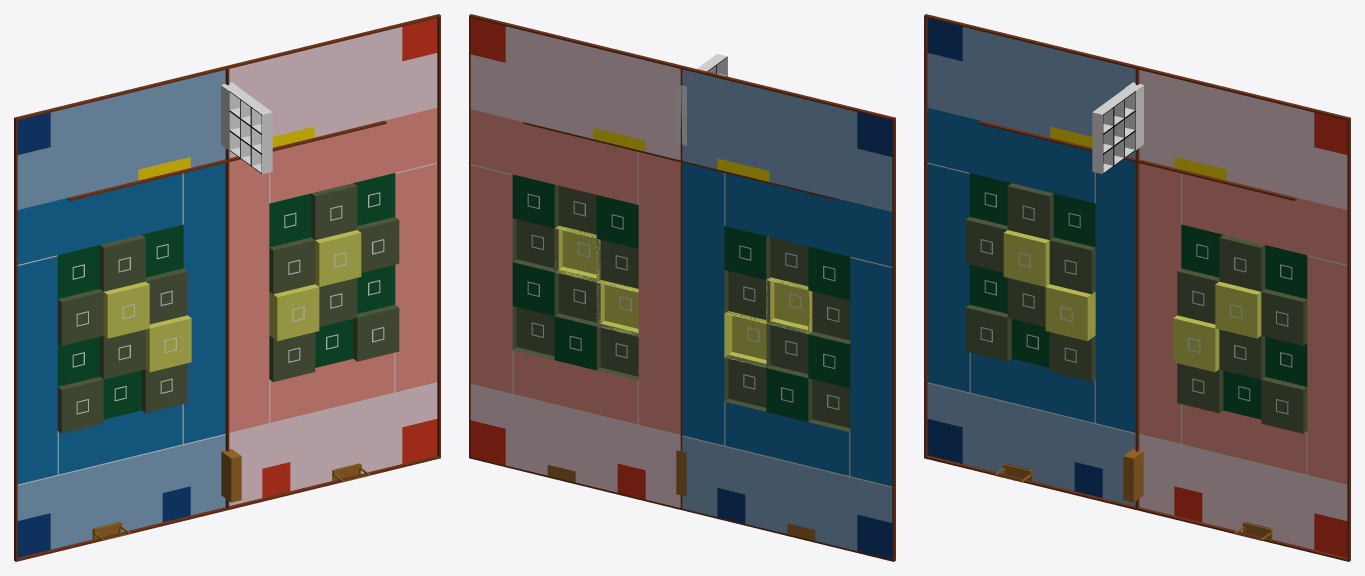
The model's file is field_color.glb.
3 views of the same model, side by side, from view 1: azimuth 30°, elevation 25°; view 2: azimuth 150°, elevation 25°; view 3: azimuth 330°, elevation 25° (orthographic).
Parts seen in each view (by area): view 1: cArenaBlue, cArenaR, aDojoB, aDojoR, bPathwayB1, bPathwayR1, bPathwayR3, bPathwayB3, bPathwayR4, bPathwayB4, WallB, bPathwayB2 (+39 smaller); view 2: cArenaR, cArenaBlue, aDojoB, aDojoR, bPathwayB1, bPathwayR1, bPathwayB3, bPathwayR3, bPathwayB4, bPathwayR4, bPathwayR2, bPathwayB2 (+37 smaller); view 3: cArenaR, cArenaBlue, aDojoR, aDojoB, bPathwayR1, bPathwayB1, bPathwayB3, bPathwayR3, bPathwayB4, bPathwayR4, WallR, bPathwayR2 (+39 smaller).
Part boxes in pixels (box(x1,y1,x2,y2)): cArenaBlue: box(17, 70, 225, 209); cArenaR: box(229, 27, 437, 158); aDojoB: box(17, 435, 225, 549); aDojoR: box(229, 383, 437, 505); bPathwayB1: box(183, 163, 225, 443); bPathwayR1: box(229, 159, 269, 432); bPathwayR3: box(395, 164, 437, 392); bPathwayB3: box(17, 256, 57, 484); bPathwayR4: box(270, 108, 437, 203); bPathwayB4: box(17, 173, 182, 264); WallB: box(14, 66, 228, 561); bPathwayB2: box(58, 404, 182, 474); cArenaR: box(470, 26, 680, 160); cArenaBlue: box(682, 69, 892, 211); aDojoB: box(682, 436, 892, 550); aDojoR: box(470, 385, 680, 507); bPathwayB1: box(682, 162, 724, 445); bPathwayR1: box(638, 152, 680, 434); bPathwayB3: box(850, 258, 892, 486); bPathwayR3: box(470, 165, 512, 393); bPathwayB4: box(725, 173, 892, 266); bPathwayR4: box(470, 109, 637, 204); bPathwayR2: box(513, 350, 637, 424); bPathwayB2: box(725, 402, 849, 475); cArenaR: box(1139, 70, 1347, 209); cArenaBlue: box(927, 27, 1135, 158); aDojoR: box(1139, 435, 1347, 549); aDojoB: box(927, 383, 1135, 505); bPathwayR1: box(1139, 163, 1181, 443); bPathwayB1: box(1095, 159, 1135, 432); bPathwayB3: box(927, 164, 969, 392); bPathwayR3: box(1307, 256, 1347, 484); bPathwayB4: box(927, 108, 1094, 203); bPathwayR4: box(1182, 173, 1347, 264); WallR: box(1136, 66, 1350, 561); bPathwayR2: box(1182, 404, 1306, 474).
Bounding box in the file's own units: 12.15 × 12.1 × 2.03.
